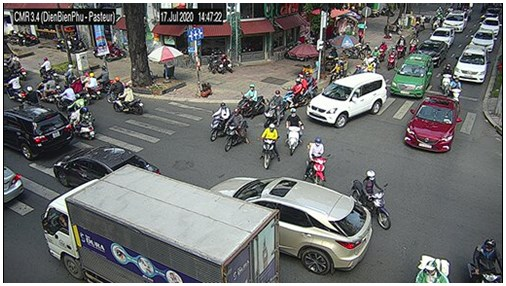xe_hoi: (208, 177, 373, 275), (53, 145, 162, 190), (306, 71, 386, 127), (4, 104, 73, 161), (405, 94, 460, 153), (453, 44, 489, 84), (416, 40, 448, 67), (442, 9, 469, 32), (469, 29, 495, 52), (430, 27, 455, 47), (478, 17, 501, 36)
xe_may: (351, 170, 392, 230), (468, 238, 502, 283), (304, 137, 328, 186), (257, 123, 281, 169), (224, 109, 249, 152), (415, 254, 450, 283), (69, 102, 95, 139), (113, 83, 144, 114), (235, 85, 265, 116), (209, 102, 231, 140), (286, 107, 303, 156), (264, 89, 285, 127), (282, 78, 307, 109), (53, 84, 80, 110), (69, 77, 92, 104), (5, 74, 27, 102), (35, 76, 58, 102), (82, 72, 101, 100), (37, 57, 59, 80), (300, 72, 318, 98), (9, 56, 27, 80), (106, 77, 122, 103), (97, 66, 112, 93), (63, 64, 79, 87), (447, 79, 461, 105), (442, 63, 452, 95), (23, 86, 38, 106), (362, 53, 377, 73), (330, 61, 343, 82), (397, 35, 406, 58), (378, 40, 387, 62), (388, 46, 395, 70), (409, 35, 417, 54)
xe_tai: (42, 163, 280, 283)
xe_taxi: (391, 53, 434, 98)
